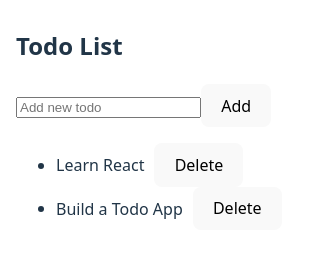
TodoList Component › adds a new todo
Type "New Todo" into the field with test id "new-todo-input".
click(108, 107); type("New Todo")  # box [16, 97, 201, 118]
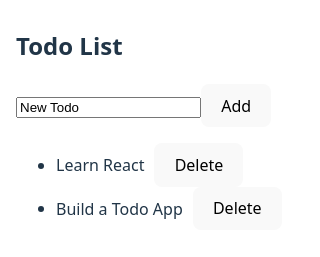
Click the button with test id "add-todo-btn".
click(236, 106)  # box [201, 84, 271, 127]
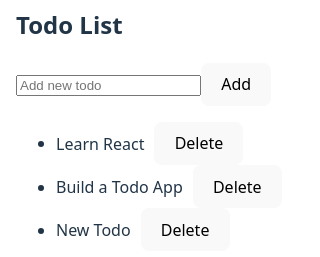
Check: the list item "New Todo" is shown, box [56, 219, 131, 241]
